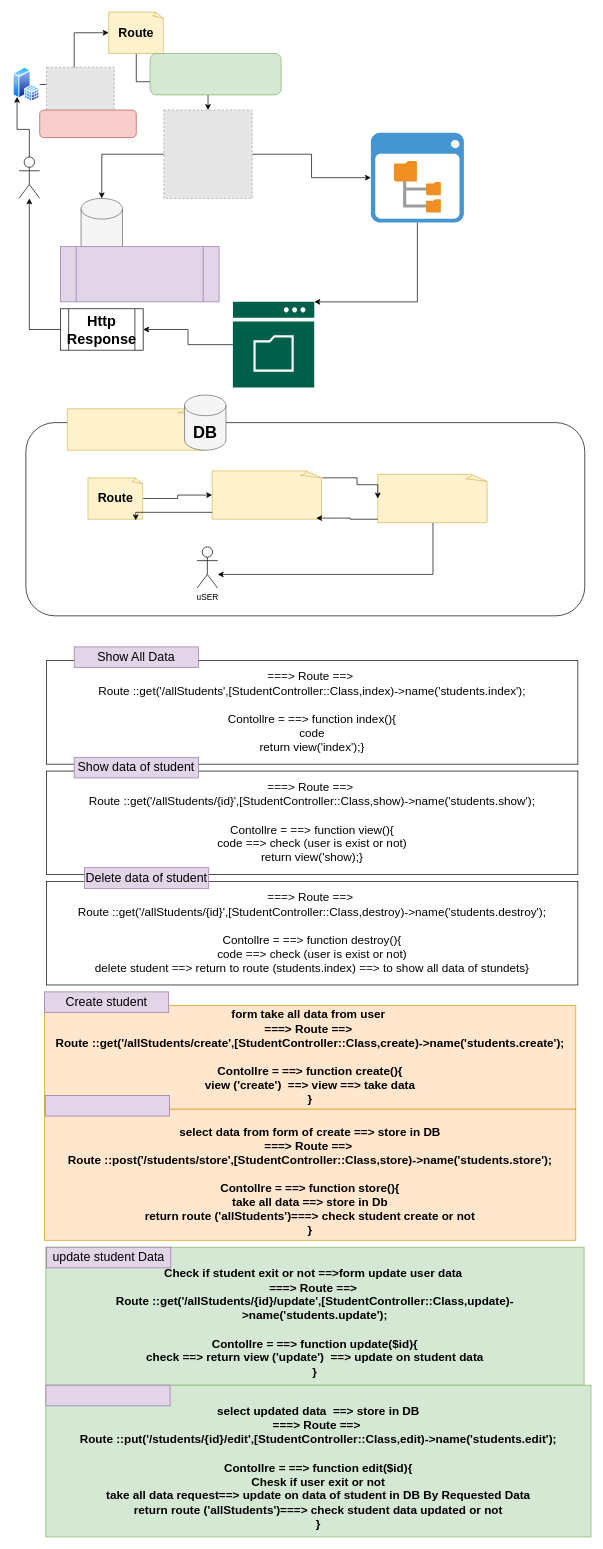
The diagram is 603 pixels wide and 1549 high, and some of its shapes have lost their labels. Grey dashed boxes stand in for pictures. Here are the shapes that lost their labels. From the top down, the box of each, then its label:
(149, 53, 281, 95): Route:Fond(True)
(39, 109, 136, 138): False
(18, 156, 40, 198): Actor
(60, 246, 219, 302): Migration(DB=>Sql)
(67, 408, 205, 450): Create DB ==> Migration
(211, 470, 323, 519): Controller
(377, 474, 488, 523): View
(45, 1095, 169, 1116): store student
(45, 1384, 170, 1406): edit updated student
